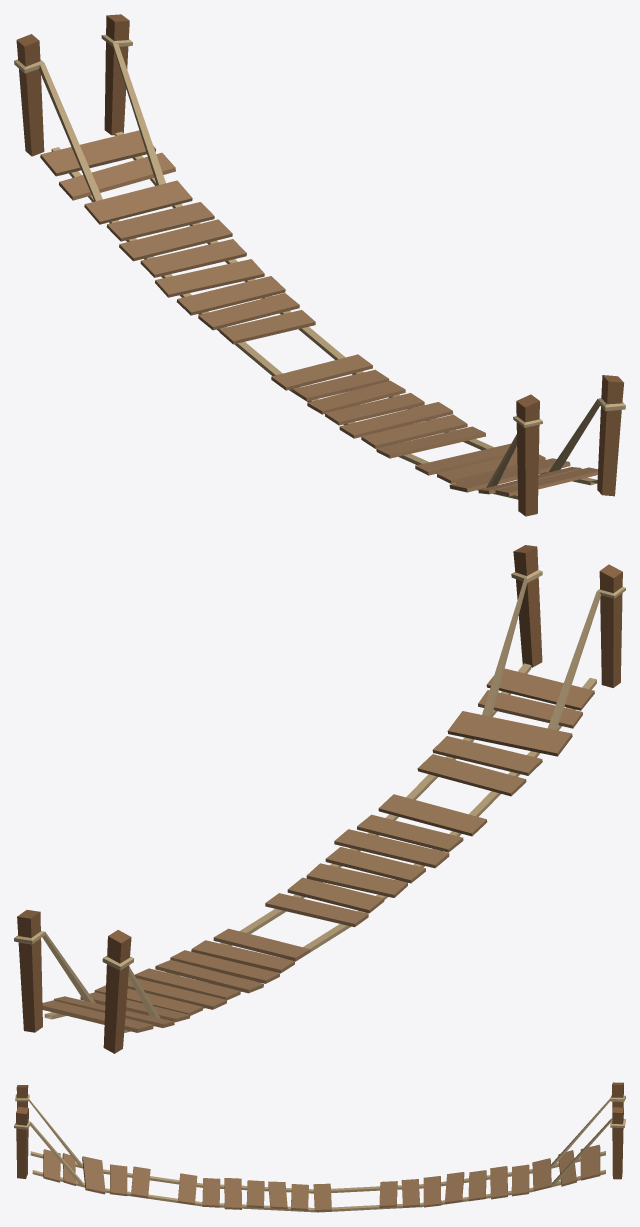
The model's file is Bridge-B01.fbx.
3 views of the same model, one above another, from view 1: azimuth 30°, elevation 25°; view 2: azimuth 150°, elevation 25°; view 3: azimuth 270°, elevation 25° (orthographic). The views are drawn at different scales.
Visible parts, largest first — view 1: Bridge-B01; view 2: Bridge-B01; view 3: Bridge-B01.
Part boxes in pixels (x1,y1,x2,y2): Bridge-B01: (14, 14, 625, 516); Bridge-B01: (14, 545, 625, 1053); Bridge-B01: (14, 1082, 625, 1212).
Bounding box in the file's own units: 301 × 456 × 2400.
